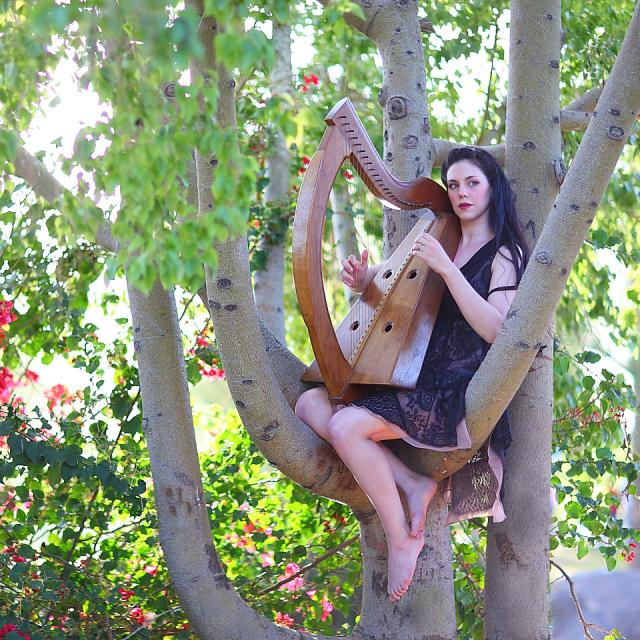harp: (287, 96, 461, 396)
